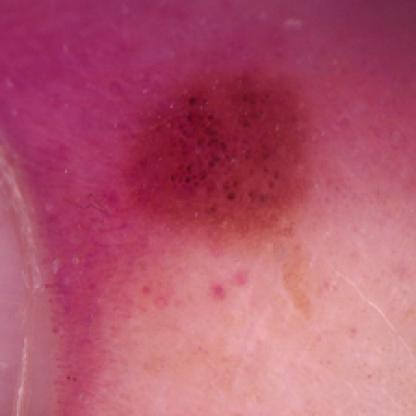benign: (115, 67, 340, 312)
